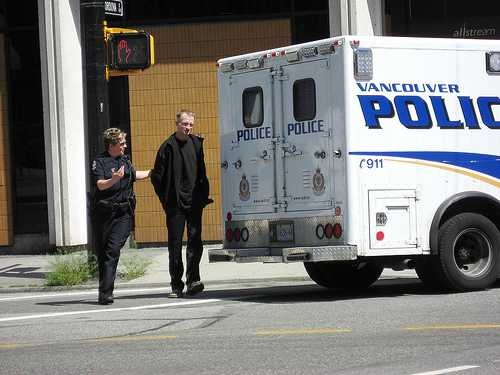Police Van: (218, 26, 500, 288)
